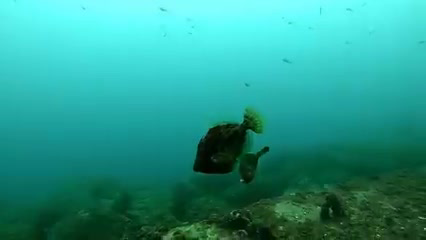kawahagi: (190, 102, 271, 185)
